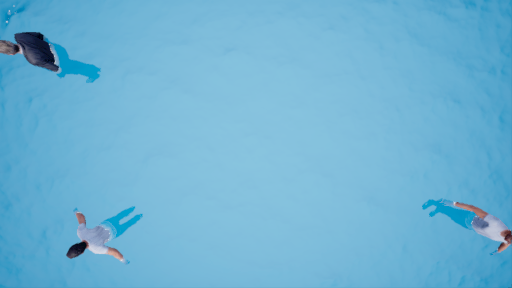person: (1, 24, 104, 94), (64, 194, 143, 260), (452, 198, 512, 256)
